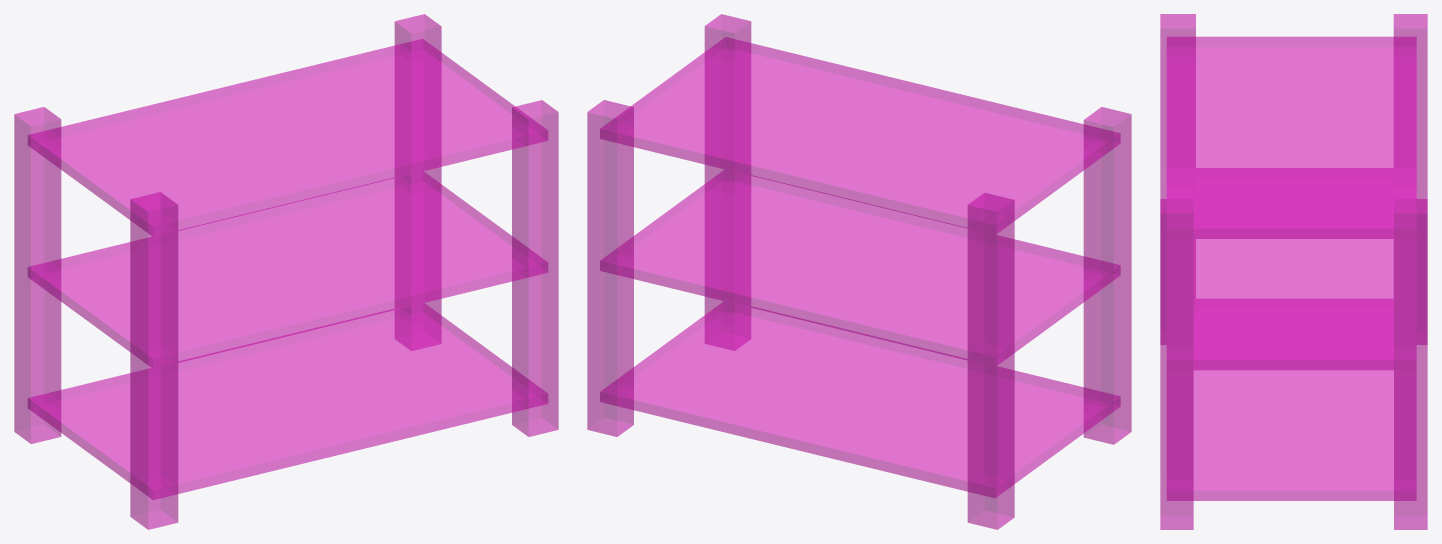
The model's file is SM_Prop_Vault_Shelf_02_Collision.fbx.
The picture shows the model from 3 angles, left to right: view 1: azimuth 30°, elevation 25°; view 2: azimuth 150°, elevation 25°; view 3: azimuth 270°, elevation 25°; orthographic projection.
Visible parts, largest first — view 1: SM_Prop_Vault_Shelf_02_Collision; view 2: SM_Prop_Vault_Shelf_02_Collision; view 3: SM_Prop_Vault_Shelf_02_Collision.
Boxes of the visible parts, left/top/right/bottom form: SM_Prop_Vault_Shelf_02_Collision: left=14, top=14, right=558, bottom=529; SM_Prop_Vault_Shelf_02_Collision: left=587, top=14, right=1131, bottom=529; SM_Prop_Vault_Shelf_02_Collision: left=1160, top=14, right=1427, bottom=529.
Bounding box in the file's own units: 254 × 188 × 144.
